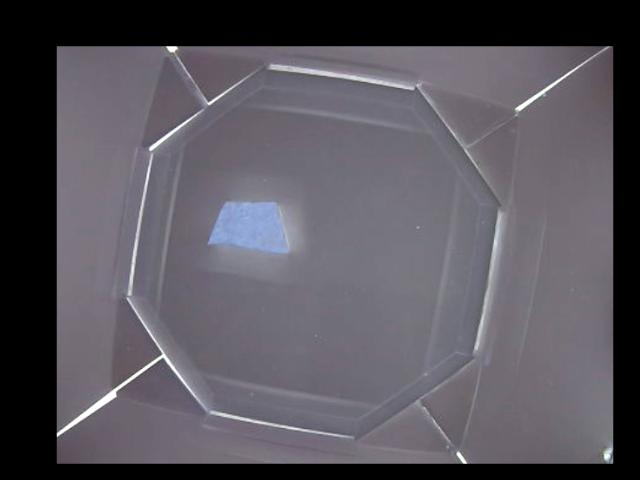China: (207, 201, 289, 259)
